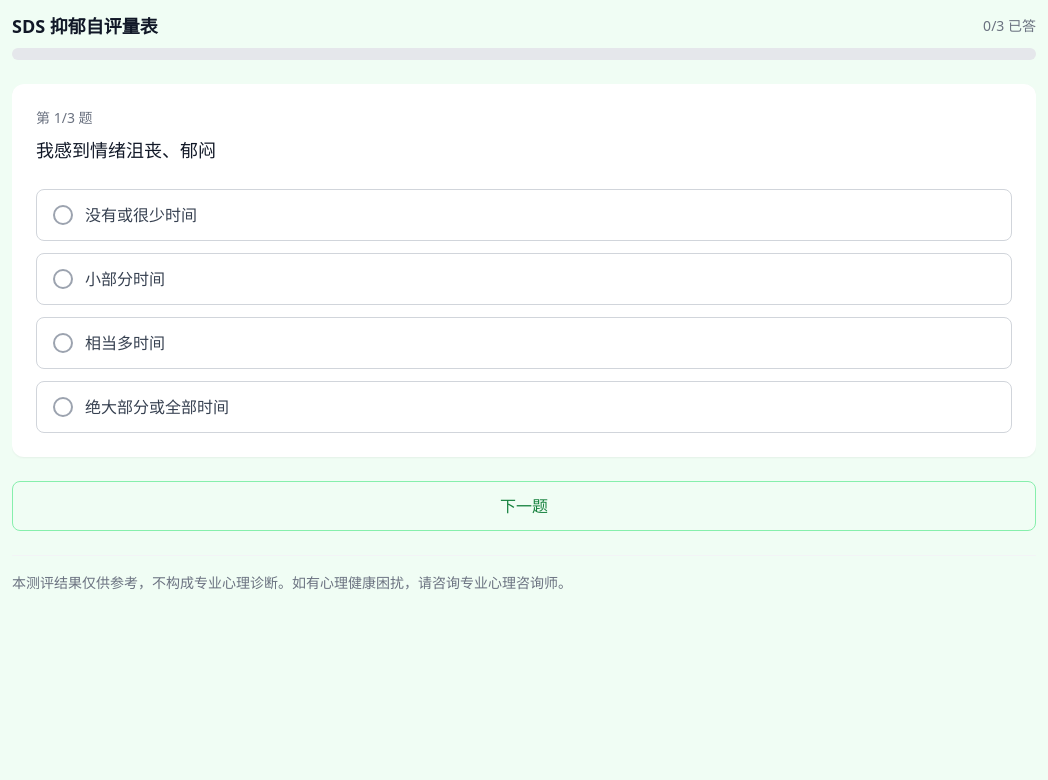
Test: AssessmentPage › previous button navigates backward while preserving answers
Expected: the text "我感到情绪沮丧、郁闷" is shown, [36,138,216,162]
# Select answer on first question
Step 1. Click the button "小部分时间" → (125, 279), box [36,253,1012,305]
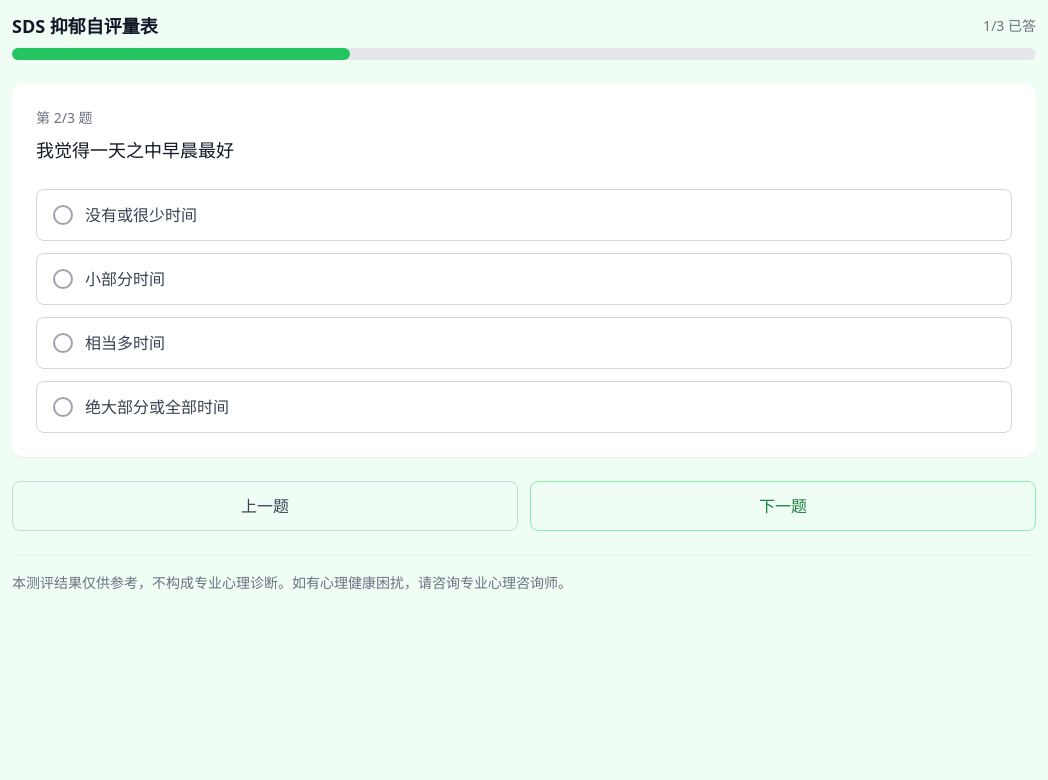
Expected: the text "我觉得一天之中早晨最好" is shown, [36,138,234,162]
# Click previous button
Step 2. Click the button "上一题" → (265, 506), box [12,481,518,531]
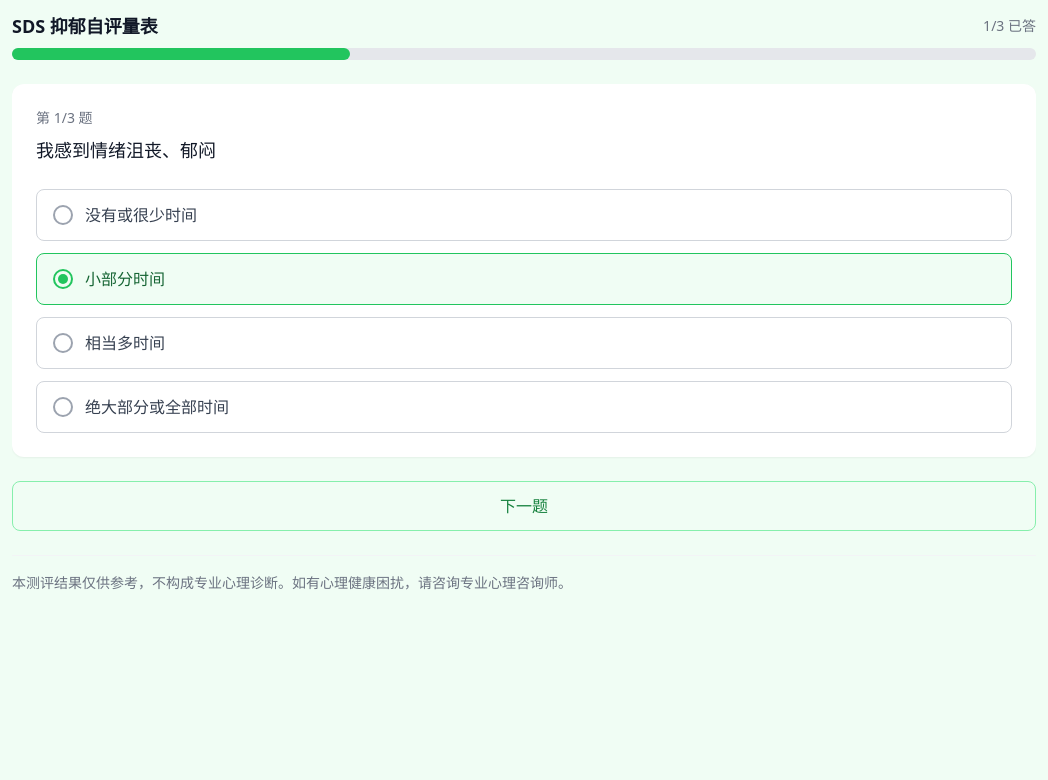
Expected: the text "我感到情绪沮丧、郁闷" is shown, [36,138,216,162]
